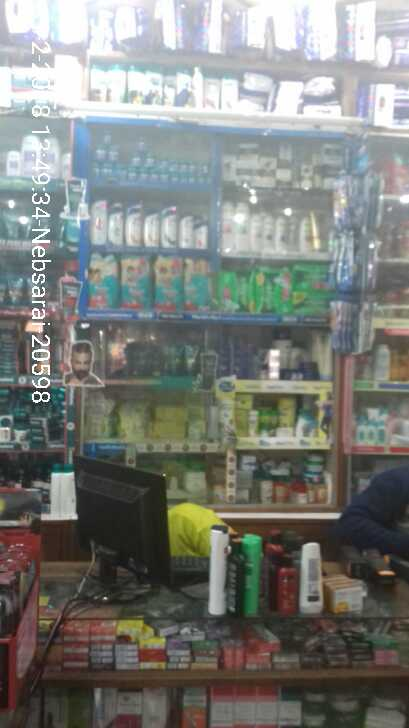vicks: (91, 127, 219, 192)
